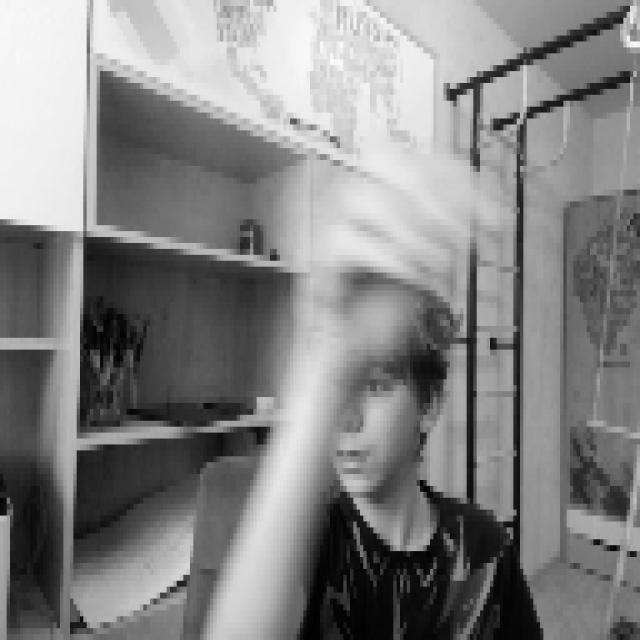left_click: (290, 124, 507, 344)
